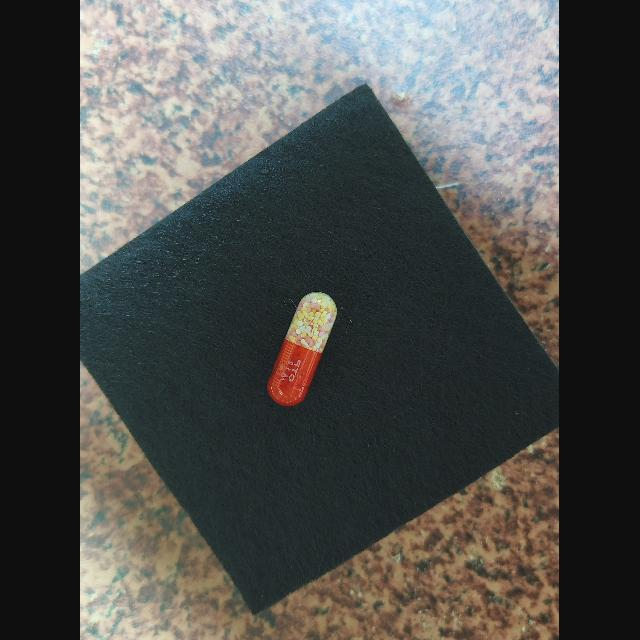Intact Capsule: (267, 292, 337, 406)
